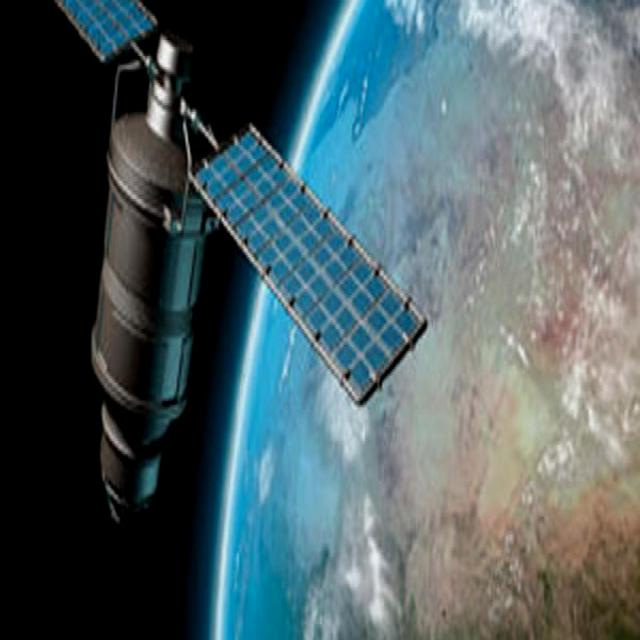medium_debris: (39, 0, 430, 542)
